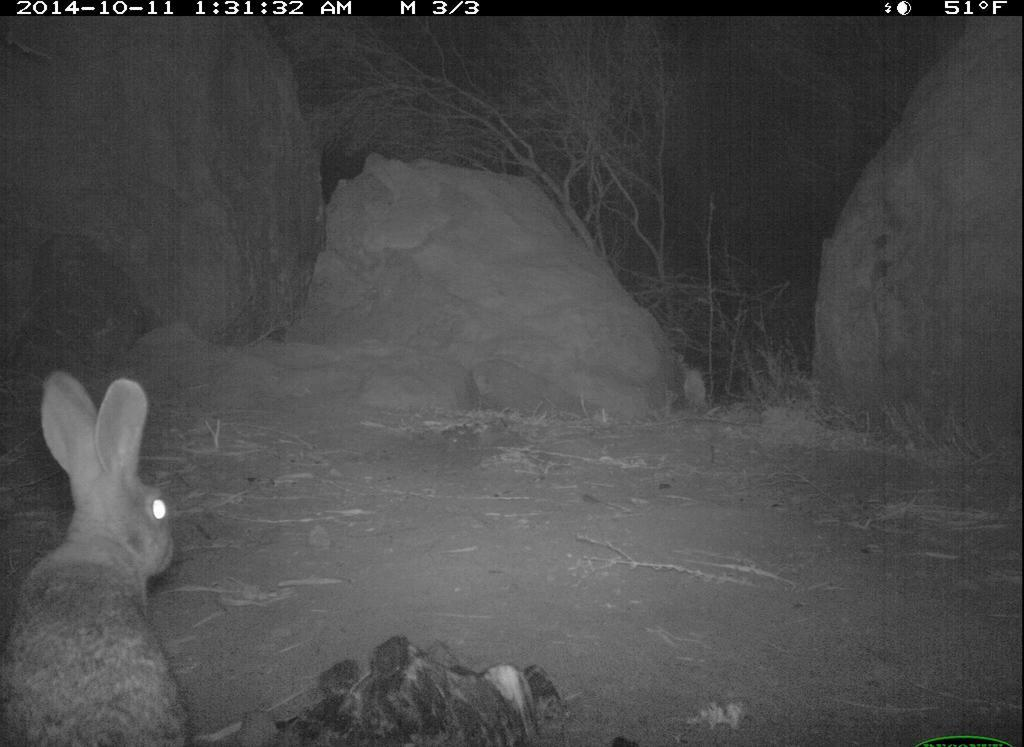rabbit: (11, 367, 199, 745)
